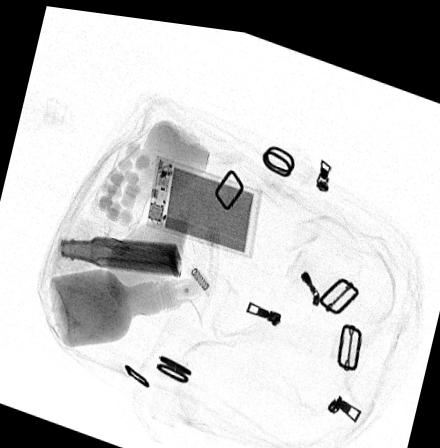Powerbank: (145, 150, 263, 251)
